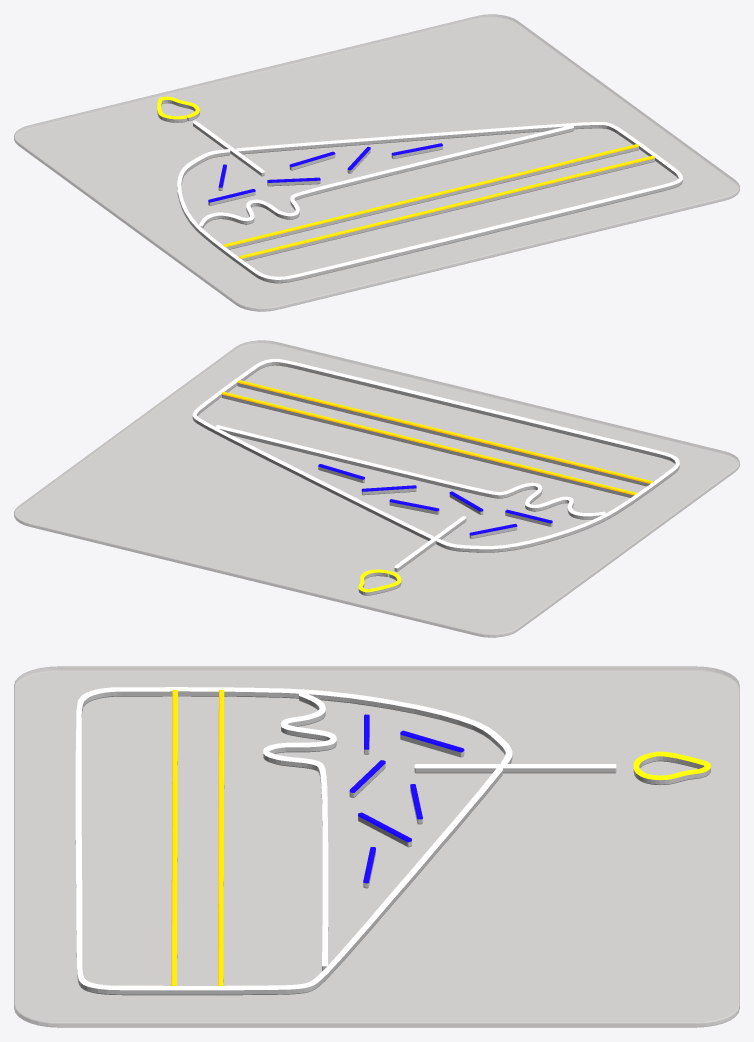
Rendered from cake.glb.
The picture shows the model from 3 angles, top to bottom: view 1: azimuth 30°, elevation 25°; view 2: azimuth 150°, elevation 25°; view 3: azimuth 270°, elevation 25°; orthographic projection. The views are drawn at different scales.
Visible parts, largest first — view 1: Plane.033, Plane.032, Plane.035, Plane.036, Plane.034; view 2: Plane.033, Plane.032, Plane.035, Plane.036, Plane.034; view 3: Plane.033, Plane.032, Plane.035, Plane.036, Plane.034.
Part boxes in pixels (bbox=[...]): Plane.033: bbox=[14, 14, 739, 311]; Plane.032: bbox=[177, 120, 682, 283]; Plane.035: bbox=[223, 144, 654, 261]; Plane.036: bbox=[208, 143, 442, 205]; Plane.034: bbox=[157, 96, 199, 122]; Plane.033: bbox=[14, 340, 739, 637]; Plane.032: bbox=[192, 359, 679, 571]; Plane.035: bbox=[222, 380, 652, 497]; Plane.036: bbox=[318, 464, 552, 538]; Plane.034: bbox=[358, 569, 401, 595]; Plane.033: bbox=[14, 666, 739, 1027]; Plane.032: bbox=[75, 687, 616, 995]; Plane.035: bbox=[171, 690, 224, 985]; Plane.036: bbox=[349, 714, 464, 888]; Plane.034: bbox=[633, 751, 710, 784].
Size of the model in its own units: 2.77 by 0.0473 by 2.38.
